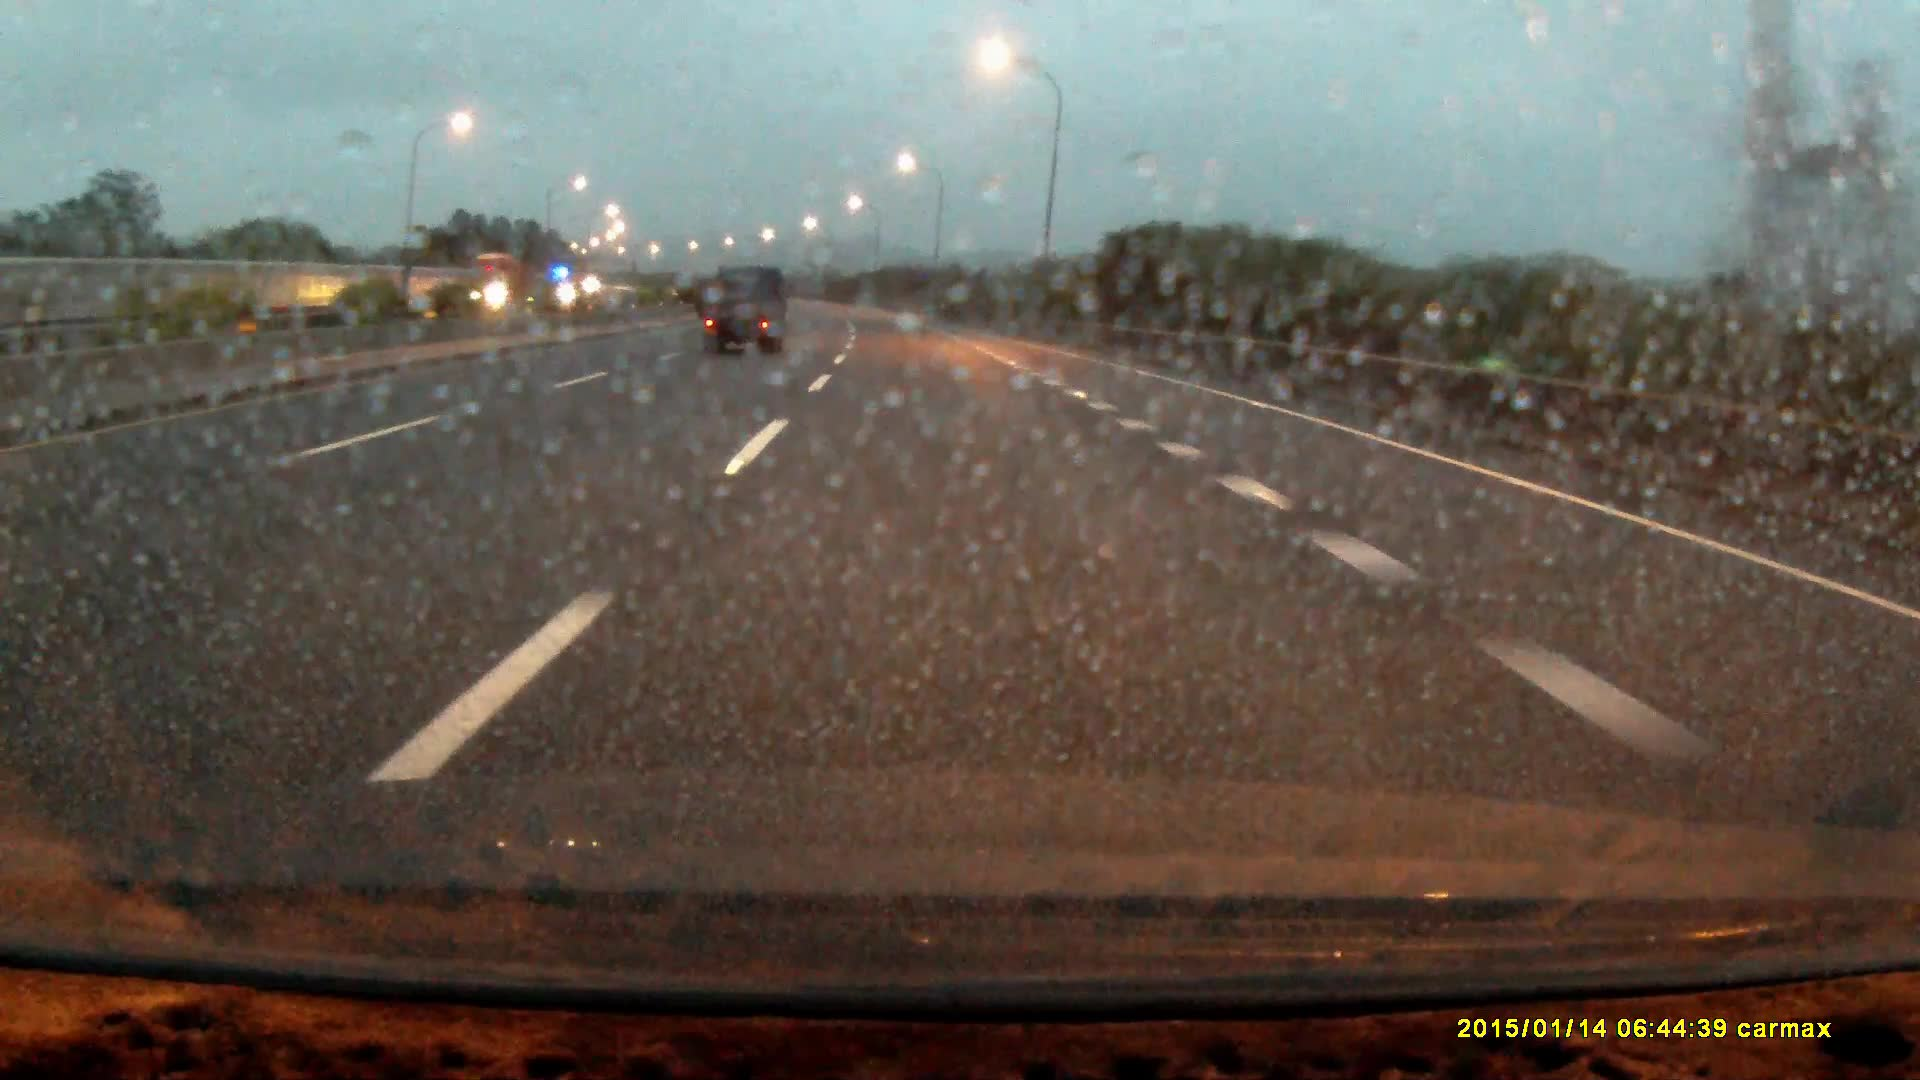vehicle: (705, 266, 785, 360), (467, 251, 534, 310)
